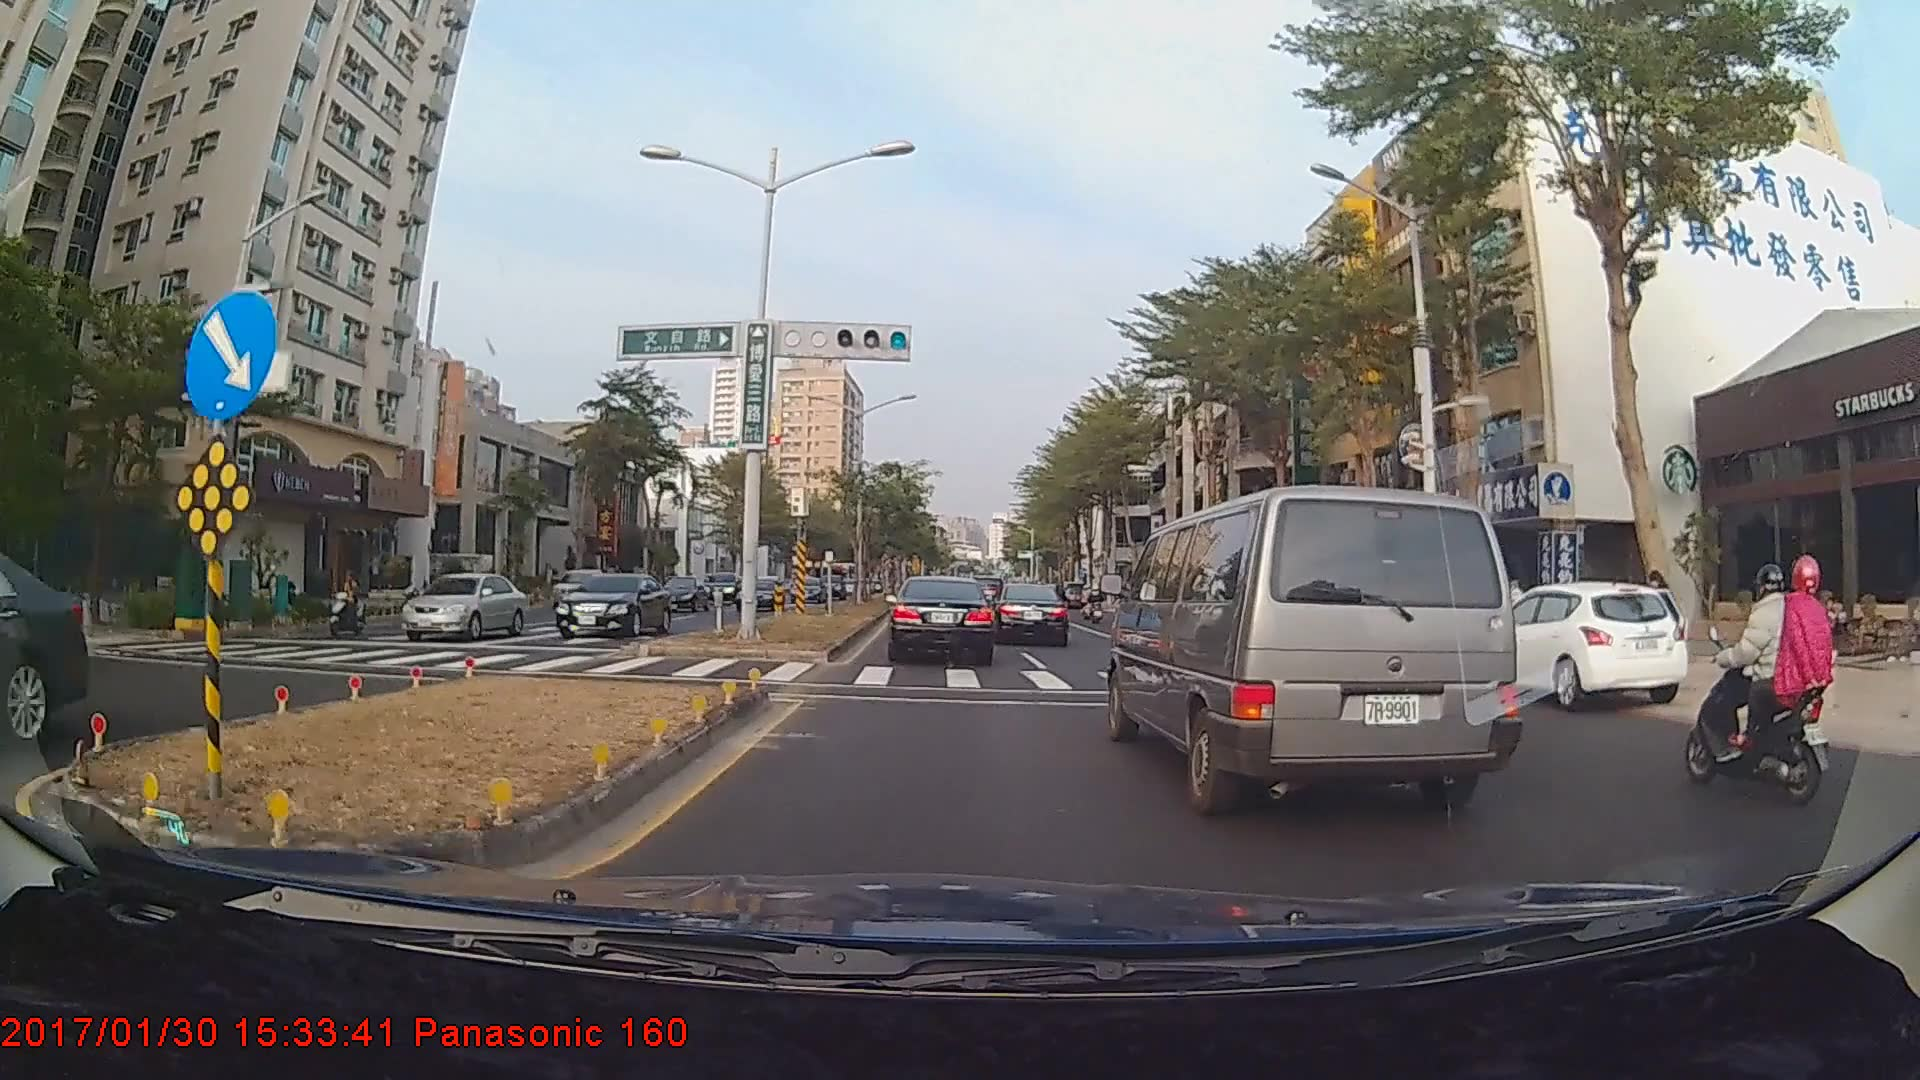rider: (1680, 555, 1839, 791), (325, 567, 371, 637)
vehicle: (1111, 475, 1525, 814), (1505, 576, 1682, 706), (0, 531, 91, 761), (889, 576, 995, 662), (400, 573, 527, 642), (551, 571, 672, 640), (991, 582, 1069, 647), (653, 574, 710, 614), (550, 570, 606, 607)
